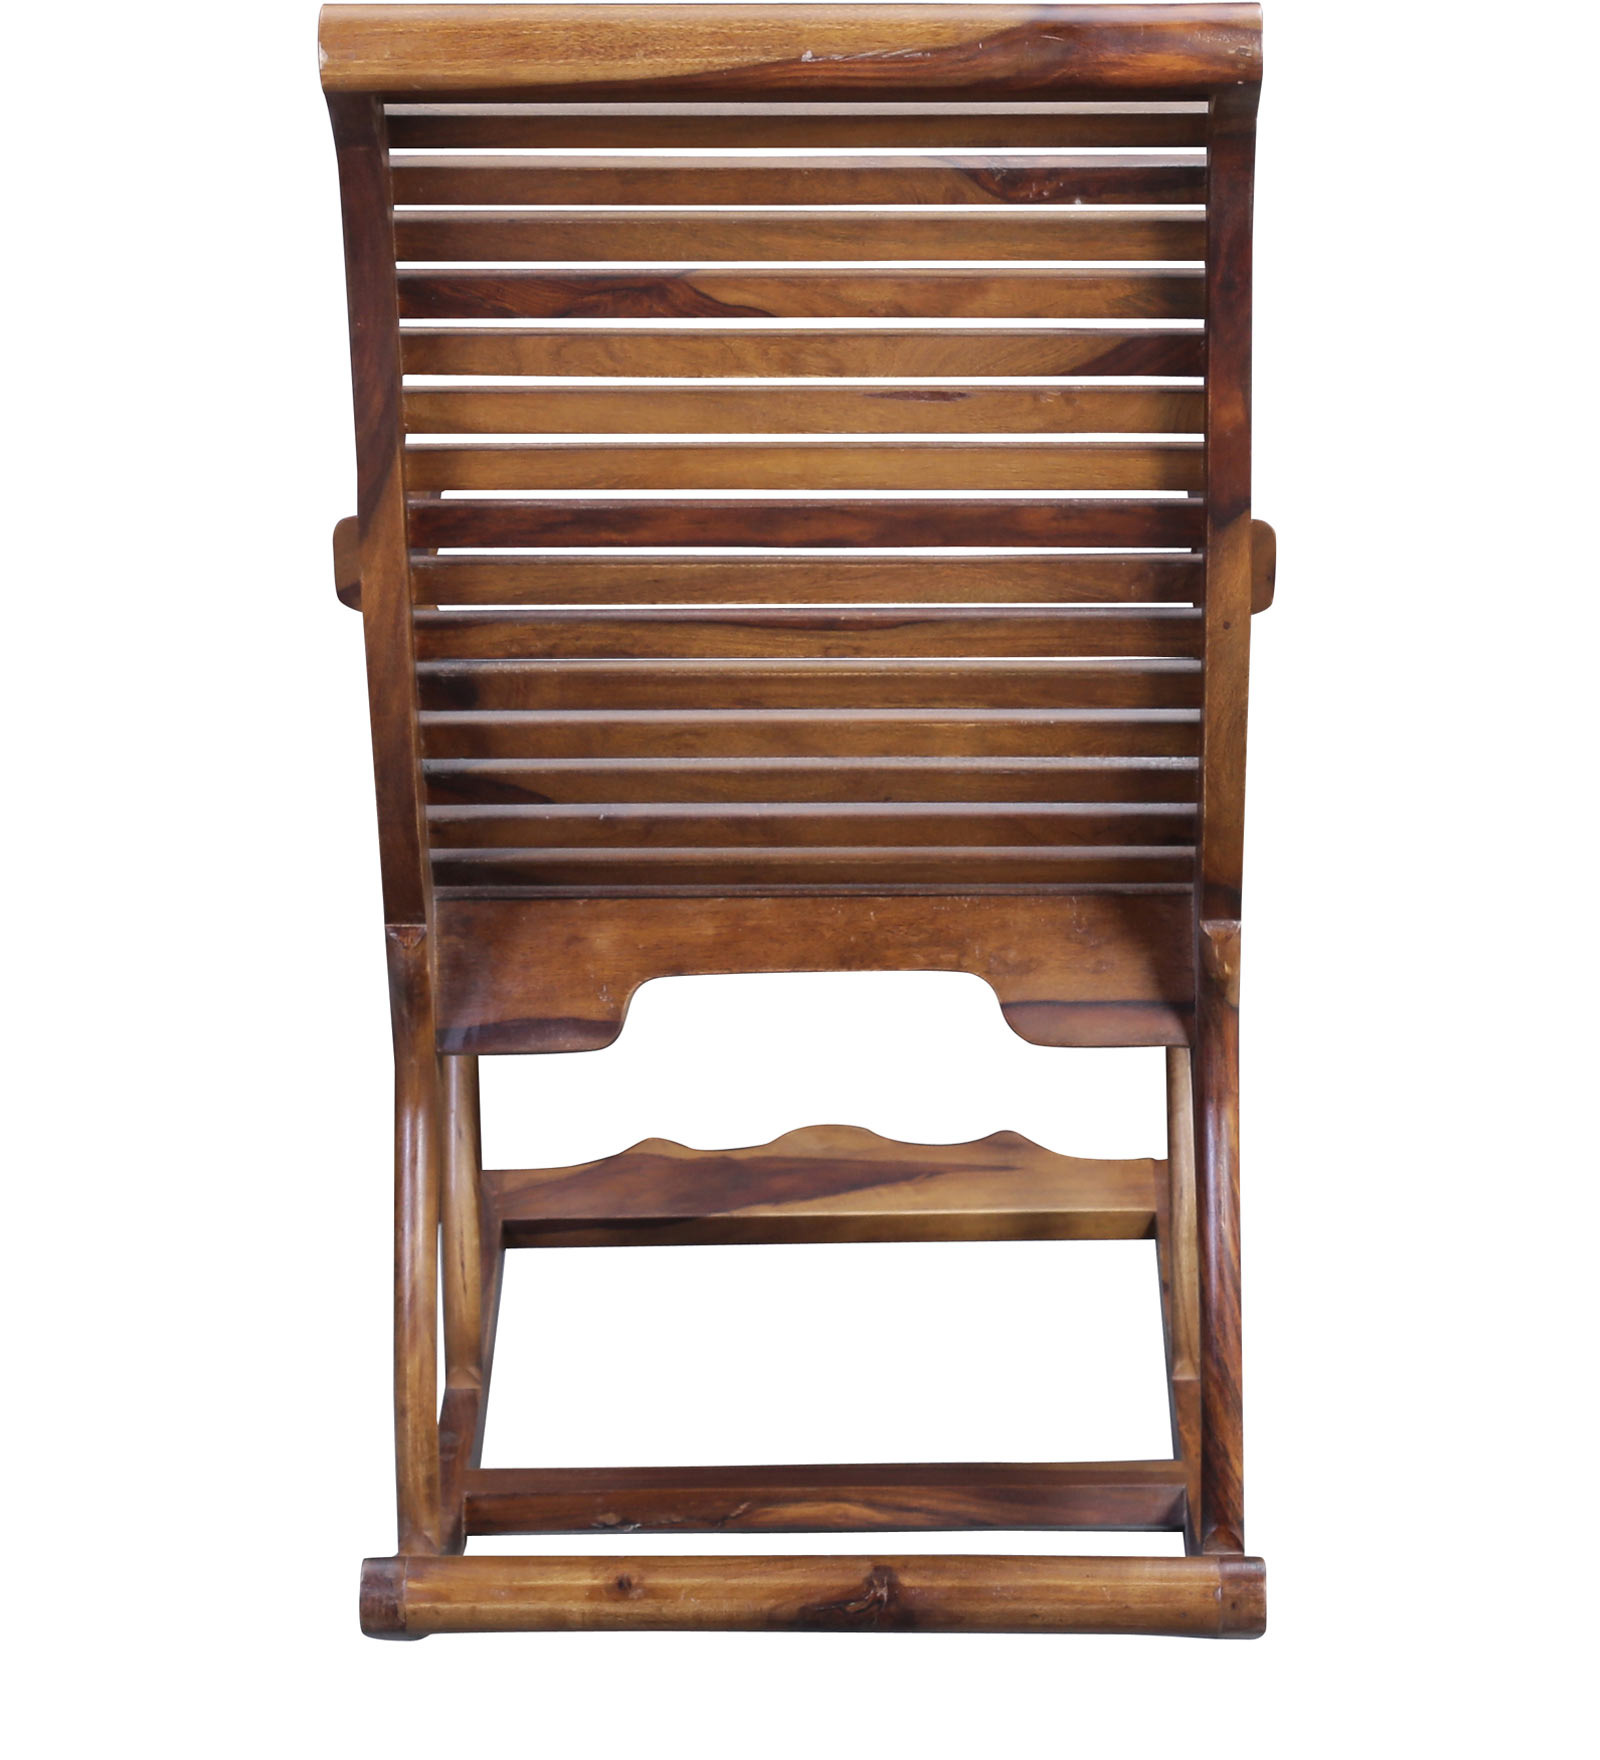Acklom Rocking Chair in Provincial Teak Finish by Amberville: (261, 5, 1309, 1653)
